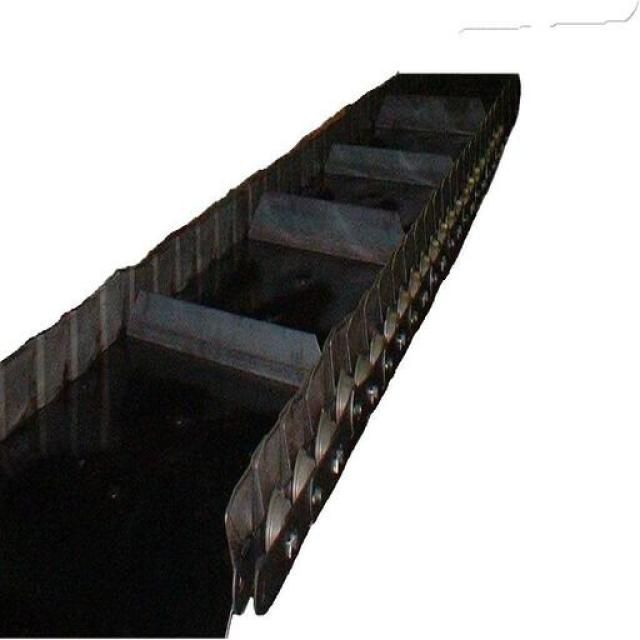conveyor: (0, 68, 524, 638)
